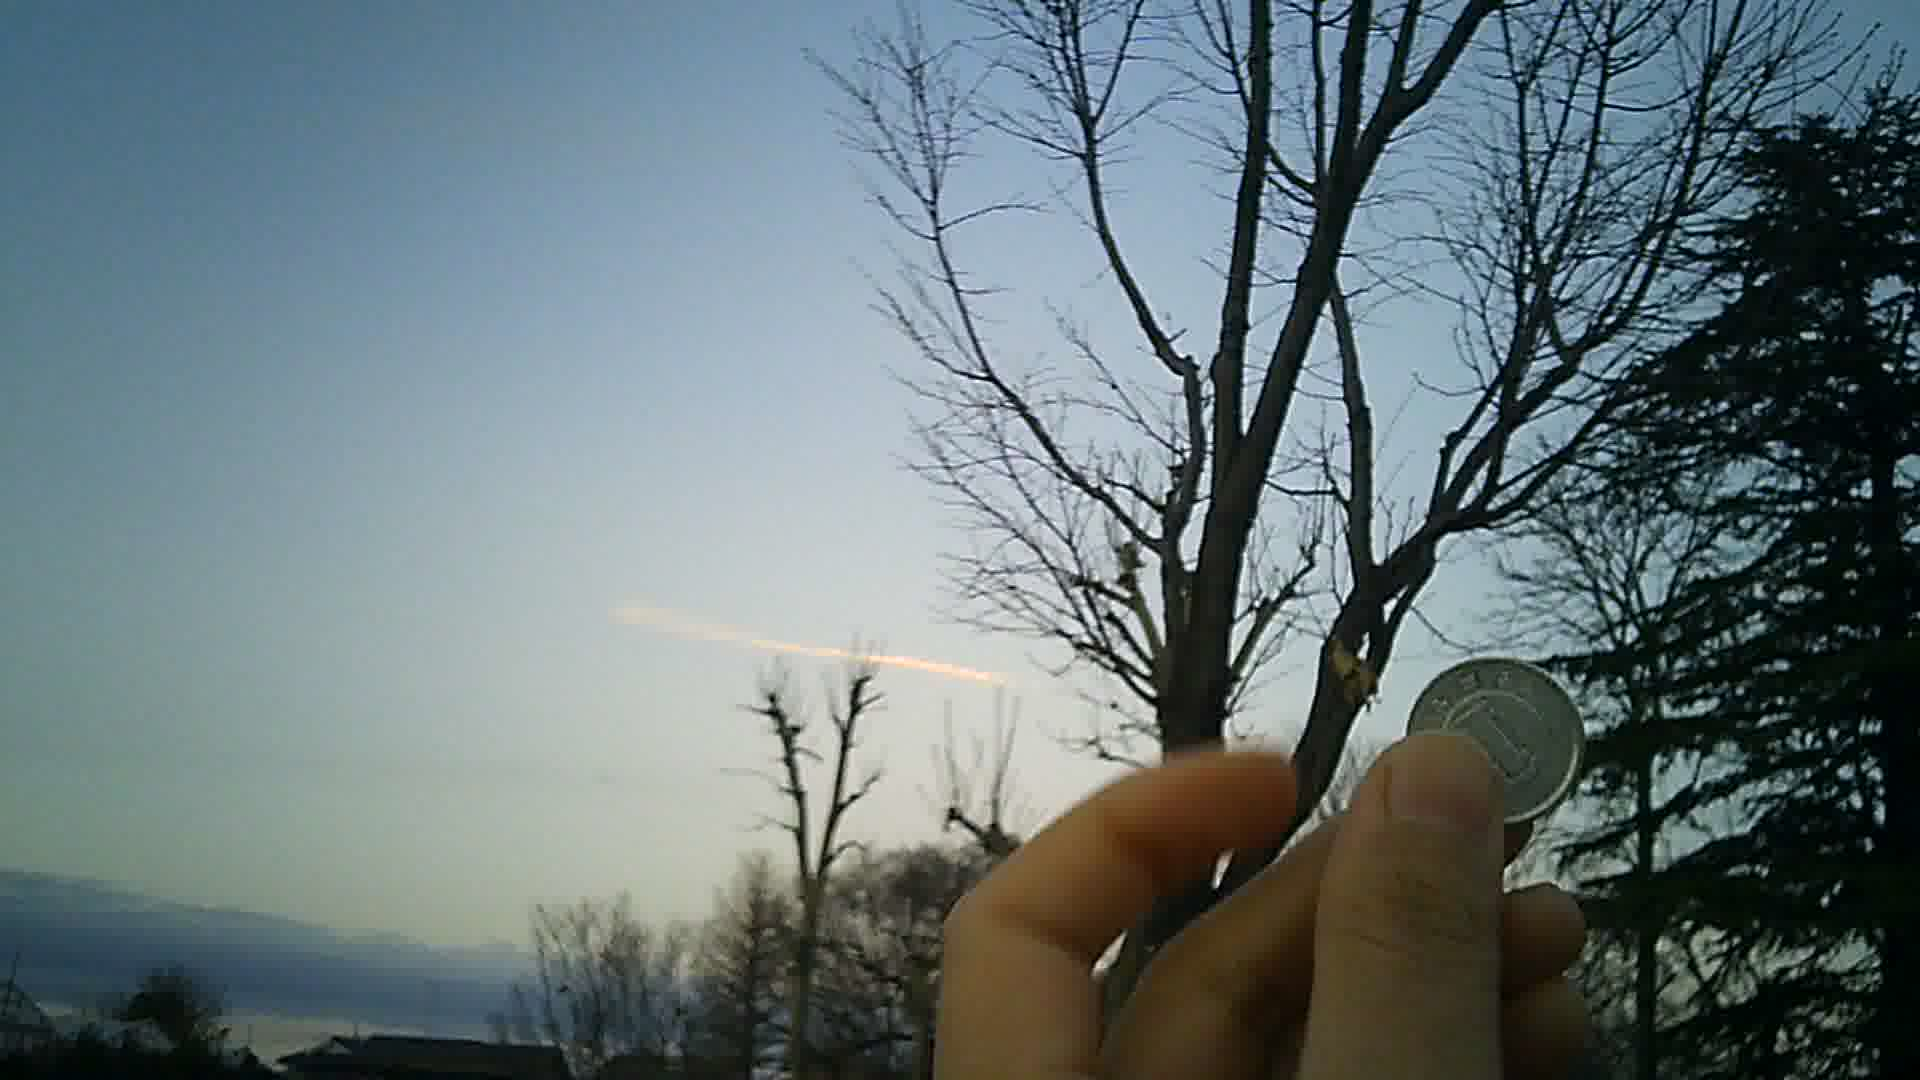1 Yen: (1399, 645, 1582, 825)
